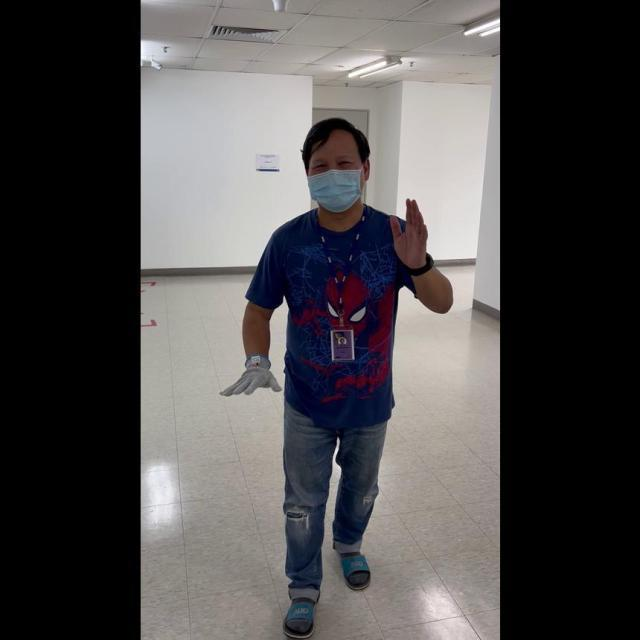bare_hand: (391, 194, 428, 268)
gloved_hand: (220, 351, 284, 400)
